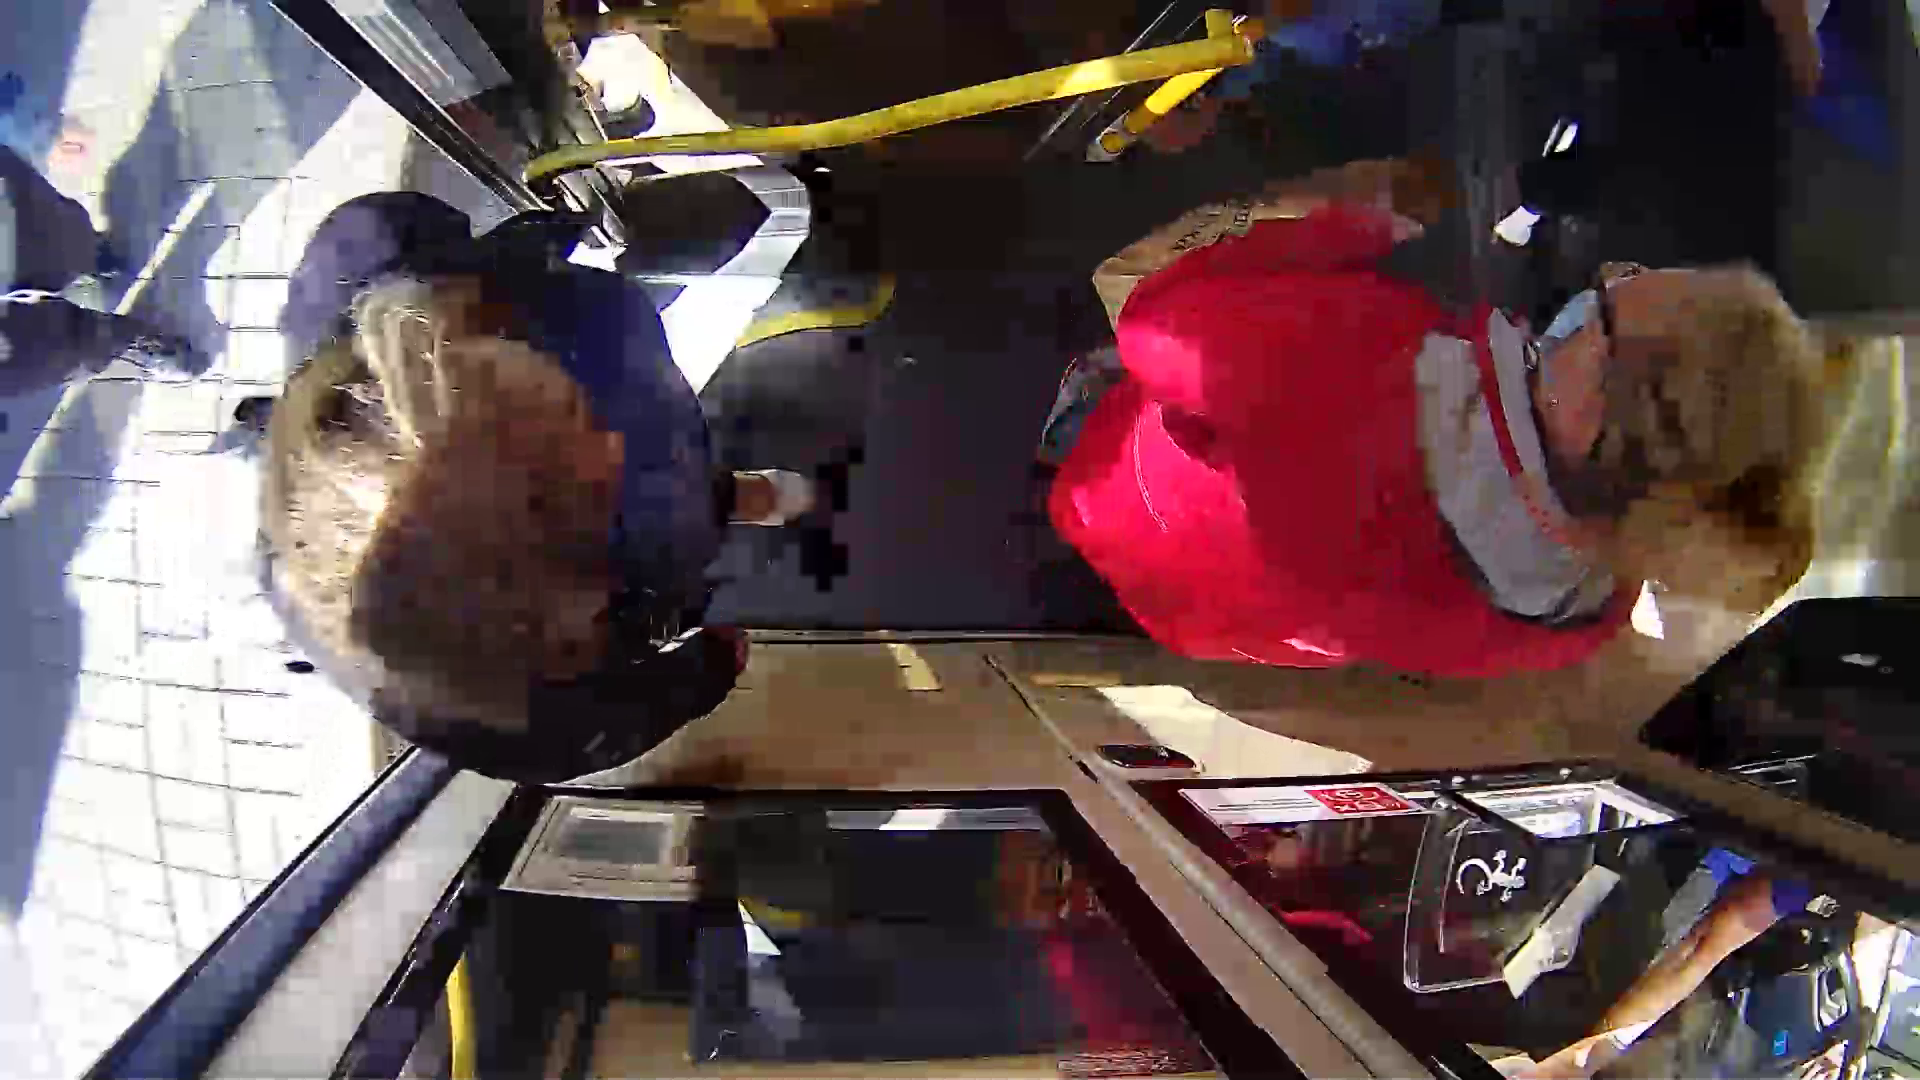person: (1074, 140, 1829, 696), (304, 154, 852, 759)
